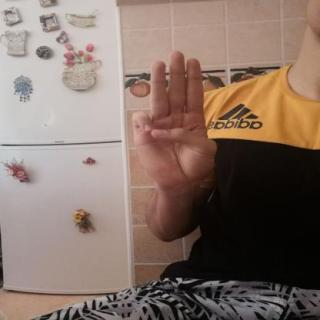THA: (120, 44, 229, 194)
